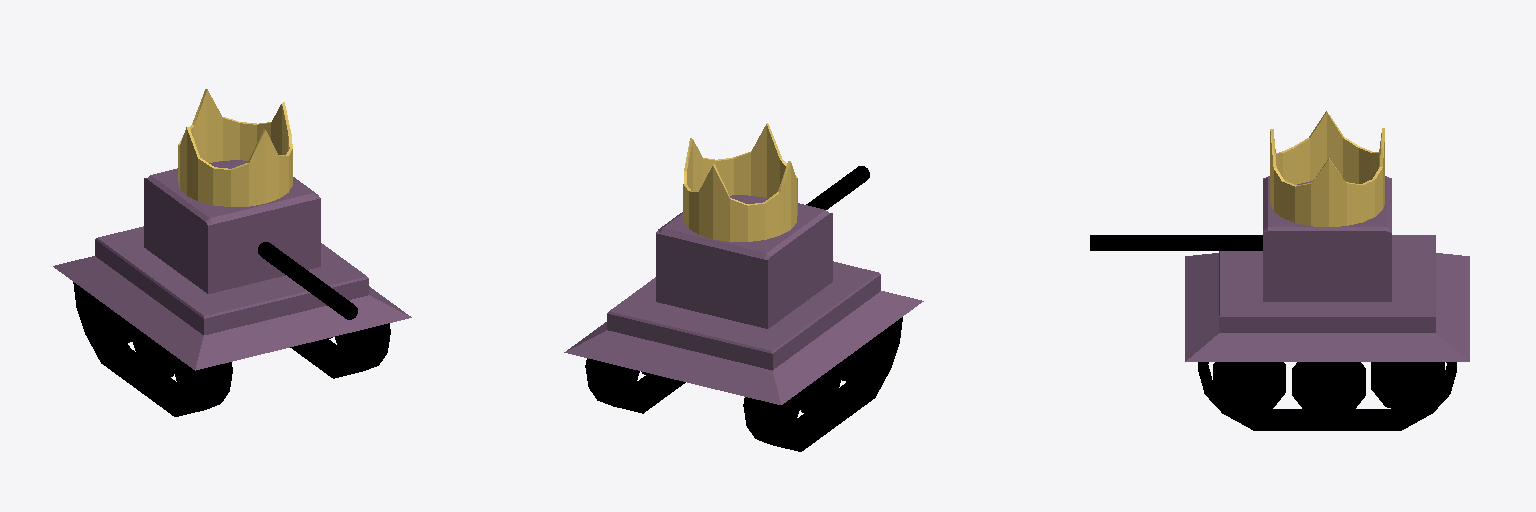
Rendered from tanquecito.obj.
The picture shows the model from 3 angles: view 1: azimuth 30°, elevation 25°; view 2: azimuth 150°, elevation 25°; view 3: azimuth 270°, elevation 25°; orthographic projection.
Parts seen in each view (by area): view 1: polySurface2; view 2: polySurface2; view 3: polySurface2.
Part boxes in pixels (left/top/right/bottom): polySurface2: left=53, top=89, right=411, bottom=416; polySurface2: left=564, top=123, right=923, bottom=451; polySurface2: left=1090, top=111, right=1469, bottom=430.
Size of the model in its own units: 5.98 by 6.78 by 9.09.